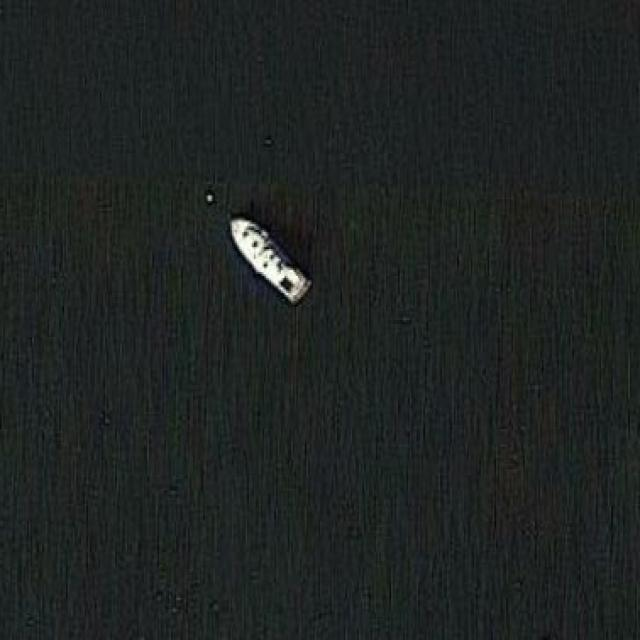ship: (227, 209, 320, 305)
